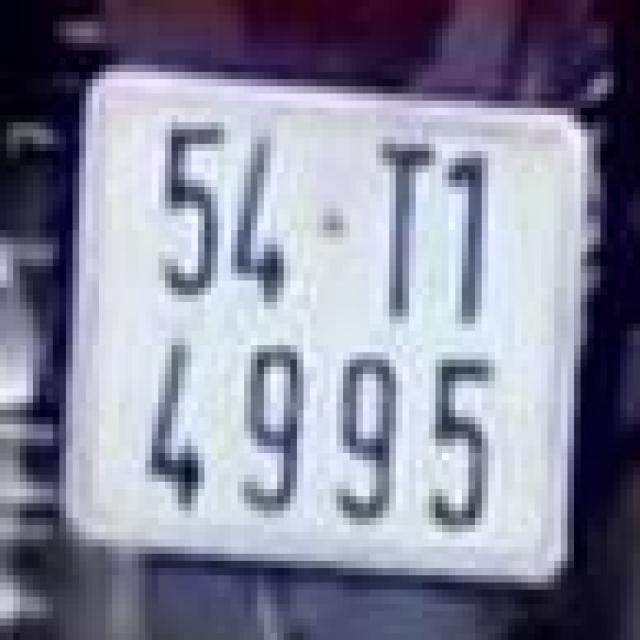1: (446, 137, 498, 338)
4: (224, 122, 297, 316), (135, 331, 208, 525)
5: (145, 119, 224, 312), (422, 349, 495, 550)
9: (234, 331, 307, 539), (327, 338, 399, 539)
T: (370, 133, 442, 334)
